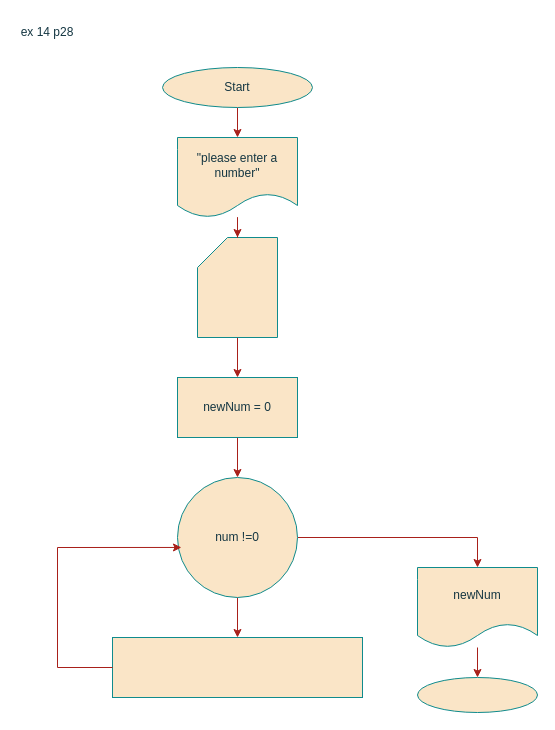
This 555x730 diagram has some shape labels left out. Here are the shapes that lost their labels. From the top down, the centre of each, then its label:
At [237,287]: "num".
At [237,667]: "newNum = newNum * 10 + num%10 num=(num-num%10)/10".
At [477,694]: "END".
